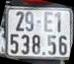-: (36, 20, 41, 23)
.: (42, 51, 45, 55)
1: (54, 12, 61, 33)
2: (16, 11, 25, 32)
3: (21, 34, 29, 55)
5: (10, 33, 19, 55), (47, 35, 56, 55)
6: (58, 35, 67, 55)
8: (32, 34, 41, 55)
9: (25, 11, 34, 33)
E: (44, 11, 53, 33)
